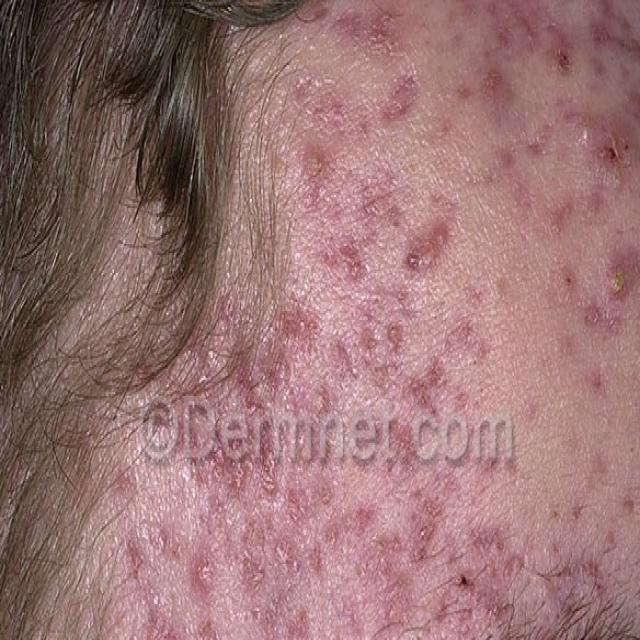Acne: (302, 0, 640, 71), (565, 208, 640, 407), (474, 59, 550, 239), (473, 248, 544, 394), (109, 462, 270, 525), (209, 539, 295, 640), (364, 497, 436, 612), (212, 280, 276, 408), (459, 531, 551, 615), (565, 423, 640, 523), (293, 63, 355, 180), (279, 304, 356, 397), (388, 340, 450, 453), (195, 460, 281, 538), (357, 215, 457, 281), (590, 63, 640, 193), (121, 558, 196, 640), (277, 460, 382, 509), (540, 456, 586, 562), (376, 67, 433, 146), (303, 539, 347, 640), (478, 425, 527, 500), (565, 511, 606, 593)
